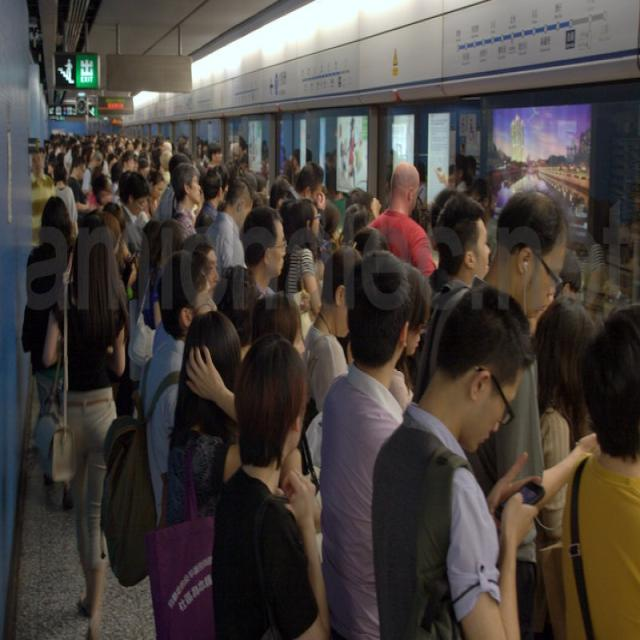body: (27, 118, 639, 334), (411, 184, 600, 639), (369, 282, 548, 639), (39, 205, 131, 639), (209, 328, 334, 640), (316, 245, 414, 640), (561, 301, 640, 640), (131, 250, 220, 530), (529, 293, 600, 640), (248, 288, 325, 536), (161, 308, 243, 527), (19, 195, 77, 488), (125, 215, 188, 459), (298, 242, 368, 434), (386, 260, 434, 414), (210, 262, 263, 361), (28, 149, 58, 248), (50, 162, 78, 239), (551, 248, 584, 304), (140, 218, 163, 266), (334, 334, 356, 370)
